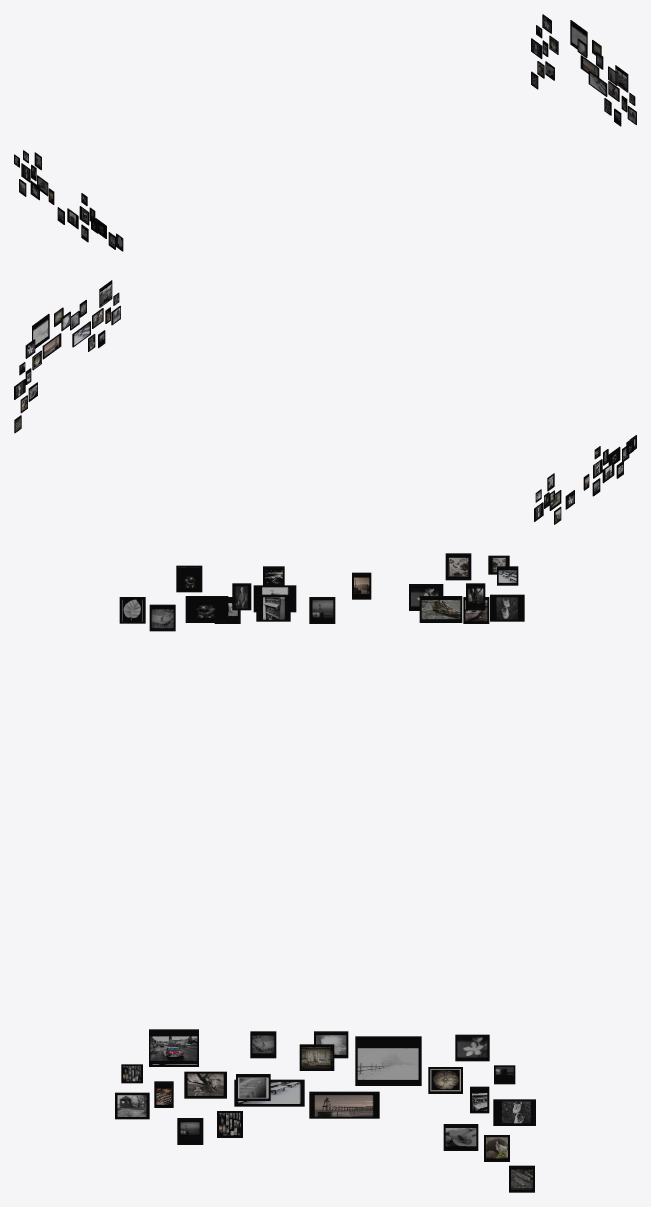
File: Photos.FBX
3 renders of one model, top to bottom at view 1: azimuth 30°, elevation 25°; view 2: azimuth 150°, elevation 25°; view 3: azimuth 270°, elevation 25°, orthographic. The views are drawn at different scales.
Parts seen in each view (by area): view 1: Object020; view 2: Object020; view 3: Object020.
Part boxes in pixels (x1,y1,x2,y2): Object020: (14,14,636,251); Object020: (14,280,636,524); Object020: (115,553,535,1192).
Size of the model in its own units: 301 by 44.59 by 103.
1 material, 1 textured.
